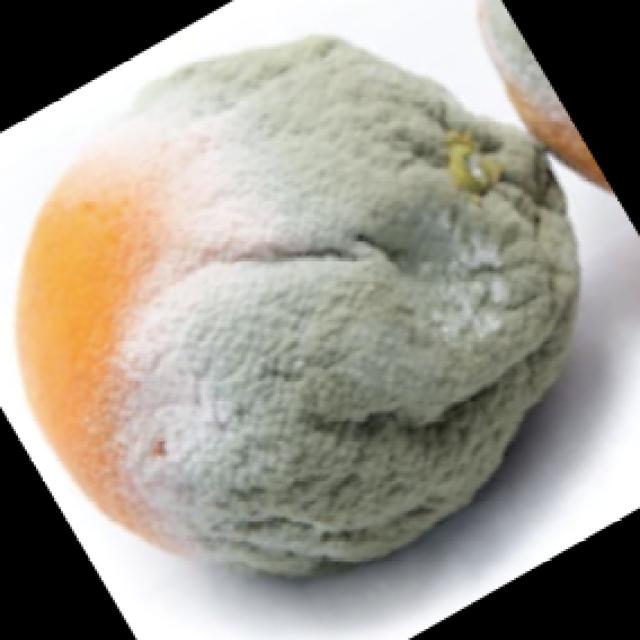sangat_busuk: (25, 33, 575, 581), (474, 0, 640, 204)
